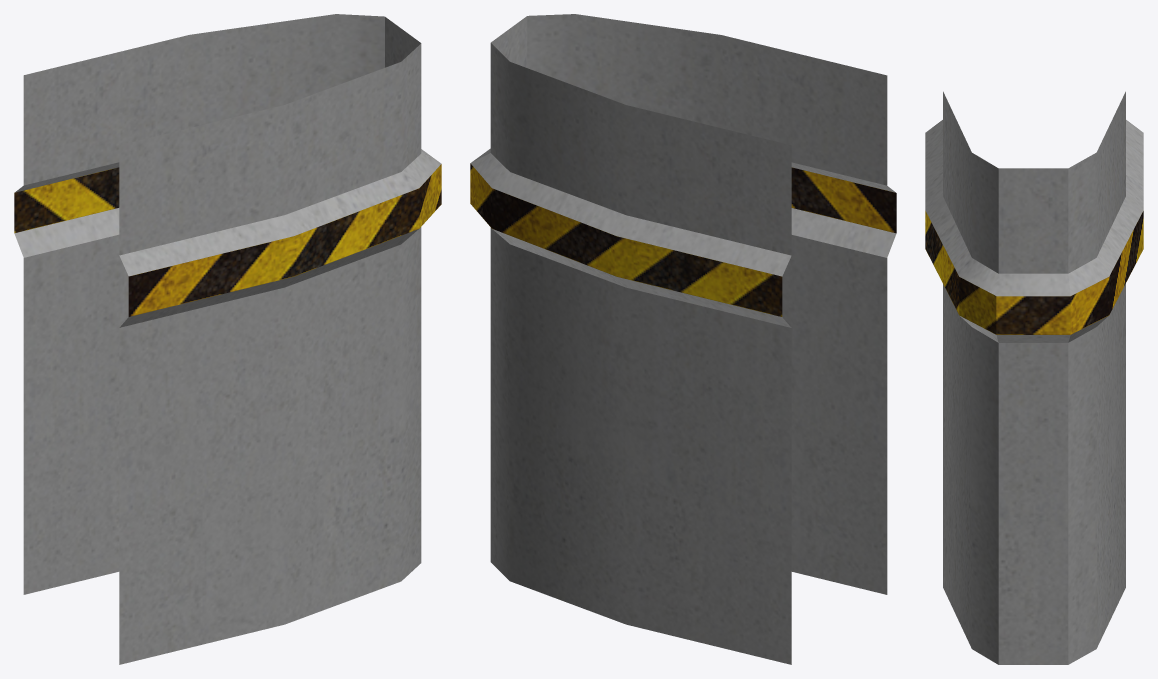
Rendered from Wall_1m_Roll180_01.FBX.
The picture shows the model from 3 angles, left to right: view 1: azimuth 30°, elevation 25°; view 2: azimuth 150°, elevation 25°; view 3: azimuth 270°, elevation 25°; orthographic projection. The views are drawn at different scales.
Visible parts, largest first — view 1: Wall_1m_Roll180_01_Mesh; view 2: Wall_1m_Roll180_01_Mesh; view 3: Wall_1m_Roll180_01_Mesh.
Boxes of the visible parts, x1,y1,x2,y2 form: Wall_1m_Roll180_01_Mesh: (14,14,441,664); Wall_1m_Roll180_01_Mesh: (470,14,896,664); Wall_1m_Roll180_01_Mesh: (925,91,1143,664).
Size of the model in its own units: 212 by 300 by 120.
2 materials, 2 textured.
